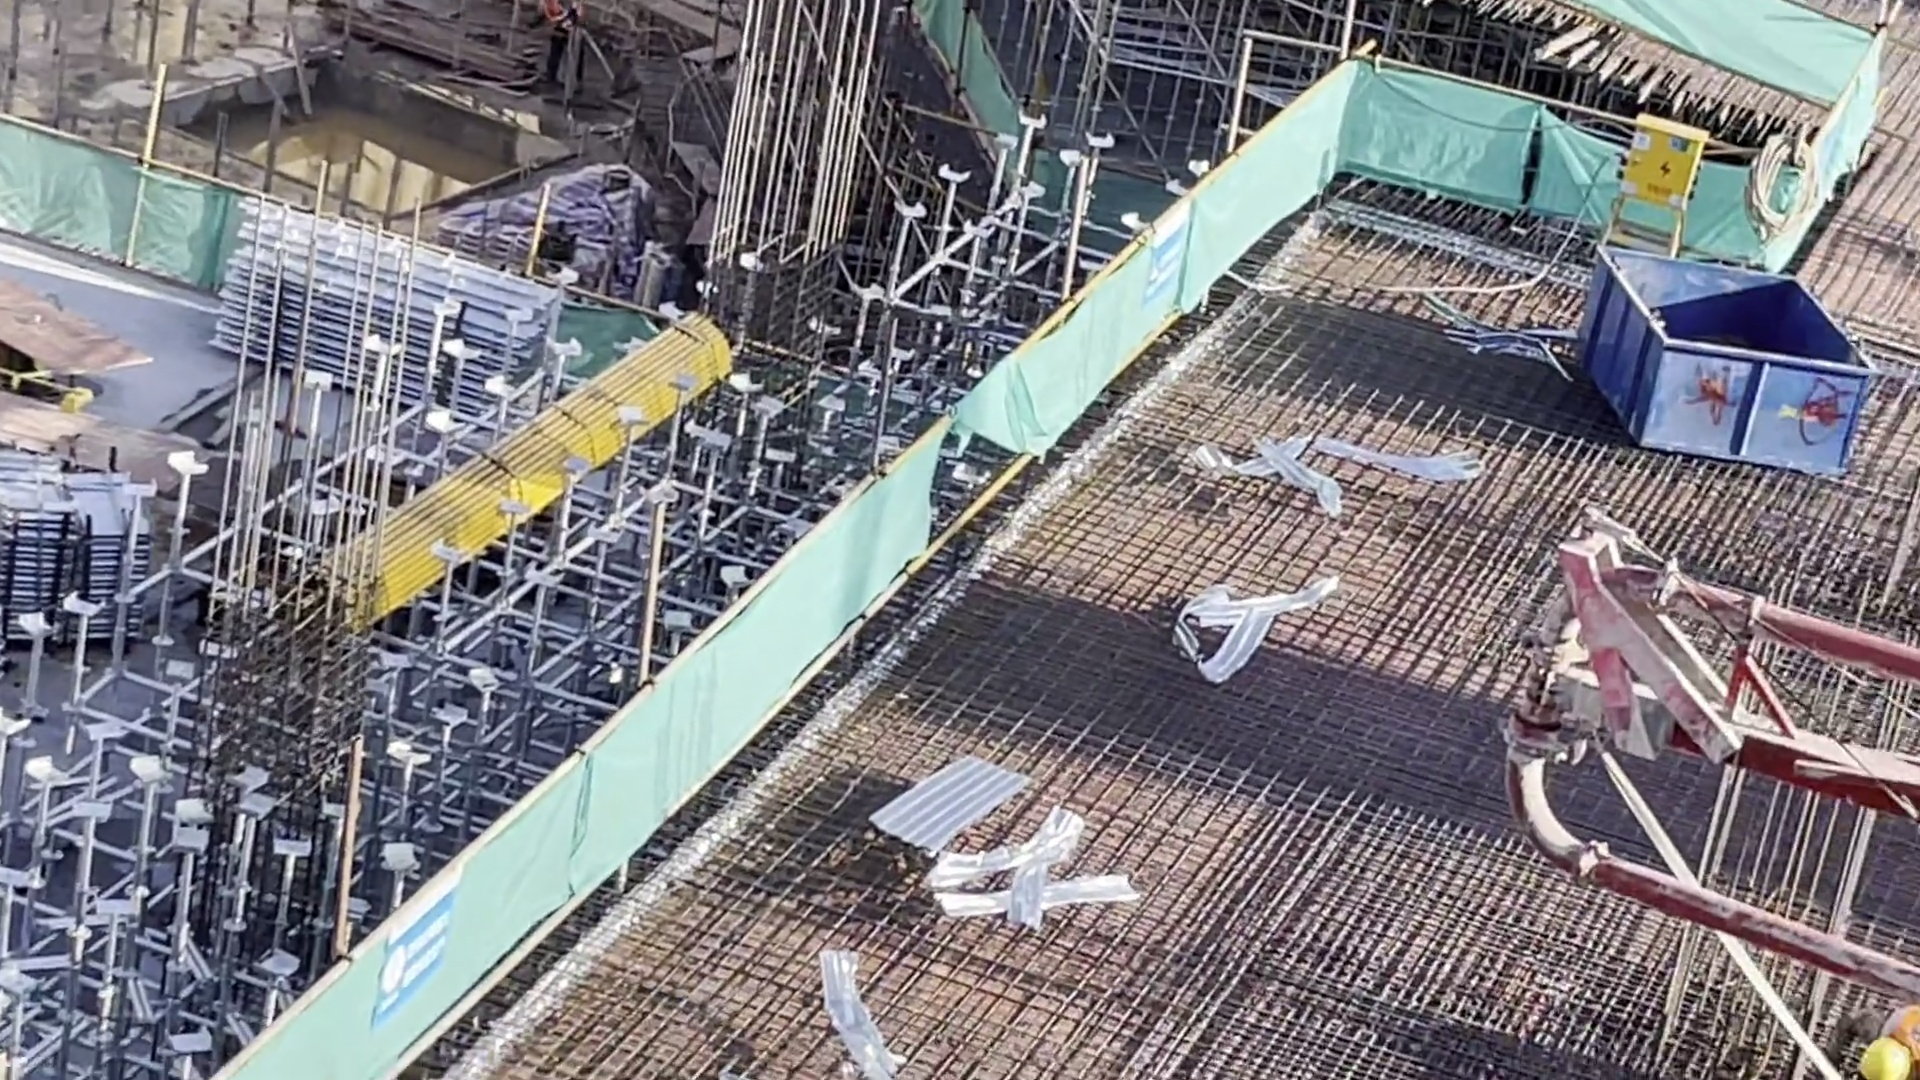cutter: (6, 397, 196, 491), (1, 274, 150, 391)
ebox: (1627, 126, 1688, 210)
helmet: (1868, 1036, 1911, 1080)
hopper: (1601, 278, 1848, 496)
person: (524, 1, 579, 96)
scaffold: (225, 240, 524, 417), (2, 476, 156, 627)
vest: (538, 1, 573, 35)
